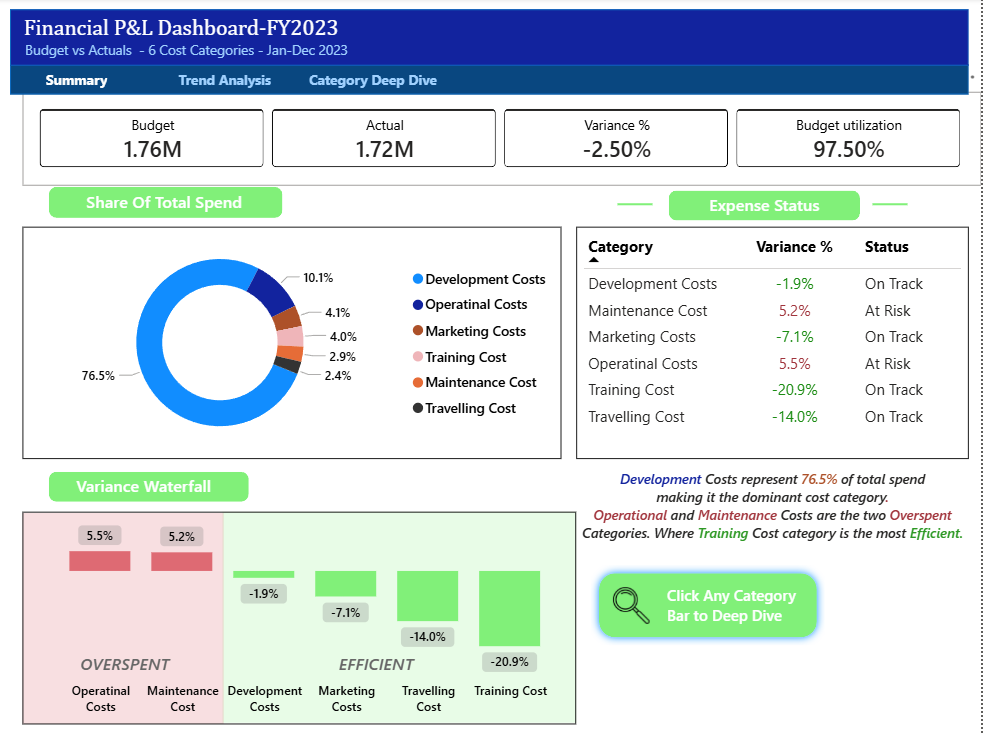

The dashboard page shown, as its layout file describes it:
{"tool":"powerbi","page":{"name":"Summary","canvas":[960,720],"ordinal":0},"visuals":[{"type":"shape","box":[10,11,937.9,55.3],"z":0,"group":"g2"},{"type":"group","id":"g1","title":"Group 2","box":[7.6,64.9,940.1,29.9],"z":0,"group":"g3"},{"type":"shape","box":[9.8,65.2,937.9,29.6],"z":0,"group":"g1"},{"type":"shape","box":[47.7,184.6,228.7,30.6],"z":0,"group":"g6"},{"type":"shape","box":[654.2,188.3,187.1,29.3],"z":0,"group":"g4"},{"type":"tableEx","fields":{"Values":["fact_Finance.Cost Category","Measure Table.Variance %","Measure Table.RAG"]},"box":[563.7,223.8,384,227.4],"z":0},{"type":"shape","box":[47.7,463.5,195.7,29.3],"z":0,"group":"g5"},{"type":"shape","box":[217.7,502.6,346.1,206.7],"z":0,"group":"g7"},{"type":"shape","box":[22,503.8,196.9,206.7],"z":500,"group":"g7"},{"type":"group","id":"g2","title":"Group 3","box":[10,11,937.9,55.3],"z":1000,"group":"g3"},{"type":"textbox","box":[18.6,11,350.2,39.3],"z":1000,"group":"g2"},{"type":"pageNavigator","box":[7.6,64.9,425.5,29.3],"z":1000,"group":"g1"},{"type":"cardVisual","fields":{"Data":["Measure Table.Budget","Measure Table.Actual","Measure Table.Variance %","Measure Table.Budget utilization"]},"box":[22,91.7,937.9,91.7],"z":1000},{"type":"textbox","box":[79.6,183.4,173.7,31.3],"z":1000,"group":"g6"},{"type":"textbox","box":[676.2,185.9,143.1,31.8],"z":1000,"group":"g4"},{"type":"textbox","box":[65.5,461,149.2,31.8],"z":1000,"group":"g5"},{"type":"clusteredColumnChart","title":"Cost Waterfall-  Budget to Actual","fields":{"Category":["fact_Finance.Cost Category"],"Y":["Measure Table.Variance %"]},"box":[22,502.6,541.7,207.9],"z":1000,"group":"g7"},{"type":"group","id":"g3","title":"Group 4","box":[7.6,11,940.3,83.8],"z":2000},{"type":"textbox","box":[19.8,36.7,348.5,29.3],"z":2000,"group":"g2"},{"type":"group","id":"g4","title":"Group 1","box":[654.2,185.9,187.1,31.8],"z":3000},{"type":"shape","box":[853.5,188.3,34.2,26.9],"z":4000},{"type":"shape","box":[604.1,188.3,34.2,26.9],"z":5000},{"type":"group","id":"g5","title":"Group 1","box":[47.7,461,195.7,31.8],"z":6000},{"type":"textbox","box":[563.7,456.1,384,85.6],"z":7000},{"type":"actionButton","box":[577.2,553.9,231.1,80.7],"z":8000},{"type":"donutChart","fields":{"Y":["Measure Table.Actual"],"Category":["fact_Finance.Cost Category"]},"box":[22,223.8,527,227.4],"z":9000},{"type":"group","id":"g6","title":"Group 5","box":[47.7,183.4,228.7,31.8],"z":10000},{"type":"group","id":"g7","title":"Group 6","box":[22,502.6,541.7,207.9],"z":11000},{"type":"textbox","box":[66,634.7,112.5,31.8],"z":12000},{"type":"textbox","box":[311.8,634.7,112.5,31.8],"z":13000}]}

Visuals, with their boxes in screenshot pixels (x1, y1, x2, y2), scaled from the page's 960x720 canvas onto the 983x733 screenshot:
shape: 10:11:971:67
"Group 2" group: 8:66:970:97
shape: 10:66:970:97
shape: 49:188:283:219
shape: 670:192:861:222
tableEx - fact_Finance.Cost Category x Measure Table.Variance %: 577:228:970:459
shape: 49:472:249:502
shape: 223:512:577:722
shape: 23:513:224:723
"Group 3" group: 10:11:971:67
textbox: 19:11:378:51
pageNavigator: 8:66:443:96
cardVisual - Measure Table.Budget x Measure Table.Actual: 23:93:982:187
textbox: 82:187:259:219
textbox: 692:189:839:222
textbox: 67:469:220:502
"Cost Waterfall-  Budget to Actual" clusteredColumnChart: 23:512:577:723
"Group 4" group: 8:11:971:97
textbox: 20:37:377:67
"Group 1" group: 670:189:861:222
shape: 874:192:909:219
shape: 619:192:654:219
"Group 1" group: 49:469:249:502
textbox: 577:464:970:551
actionButton: 591:564:828:646
donutChart - Measure Table.Actual x fact_Finance.Cost Category: 23:228:562:459
"Group 5" group: 49:187:283:219
"Group 6" group: 23:512:577:723
textbox: 68:646:183:679
textbox: 319:646:434:679
